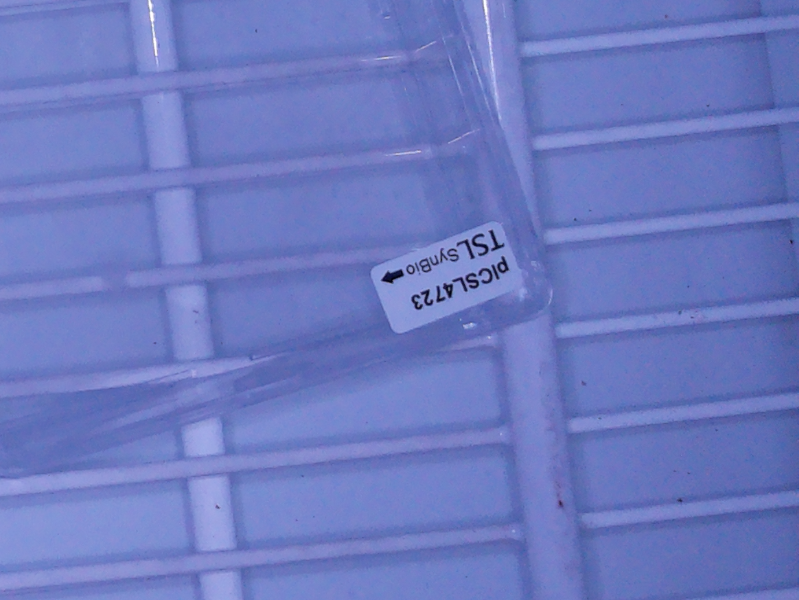plate: (1, 1, 555, 476)
